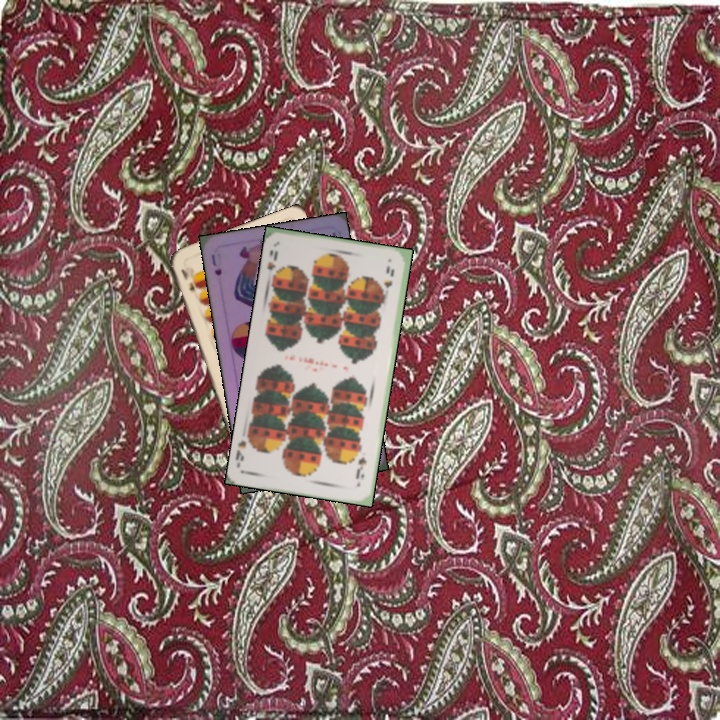E10: (177, 265, 198, 294)
S9: (263, 247, 282, 283), (352, 453, 369, 482)
SU: (207, 250, 224, 278)
